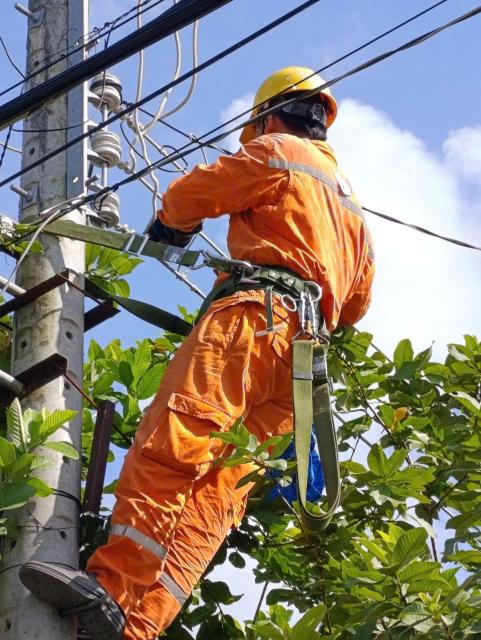gloves: (148, 218, 207, 250)
harness: (228, 241, 355, 360)
helmet: (229, 44, 354, 164)
shoes: (22, 546, 133, 640)
